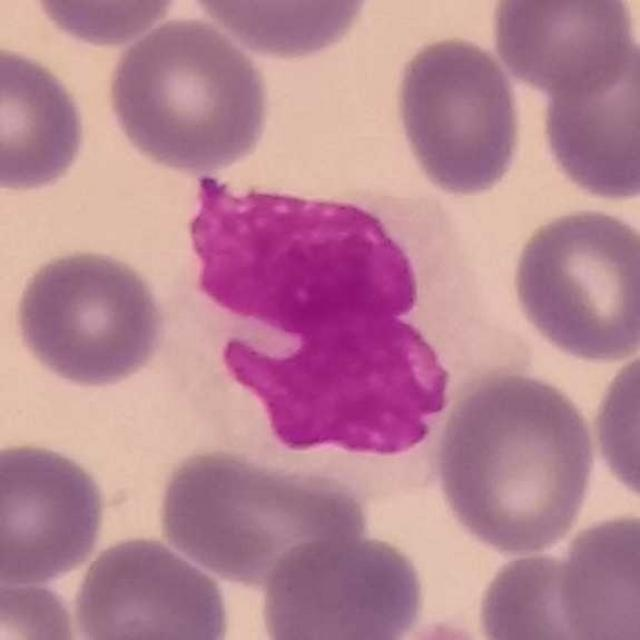Monocyte: (162, 166, 524, 496)
RBC: (432, 365, 600, 559), (151, 443, 371, 587), (102, 13, 274, 176), (10, 244, 170, 392), (390, 32, 528, 200), (506, 203, 640, 365), (255, 531, 428, 640), (536, 32, 640, 205), (69, 531, 234, 640), (0, 436, 110, 588), (470, 546, 632, 640), (487, 0, 639, 98), (0, 39, 91, 197), (182, 0, 378, 61), (553, 510, 640, 640), (589, 343, 640, 514), (23, 0, 188, 49), (0, 570, 83, 640), (352, 612, 524, 640)
